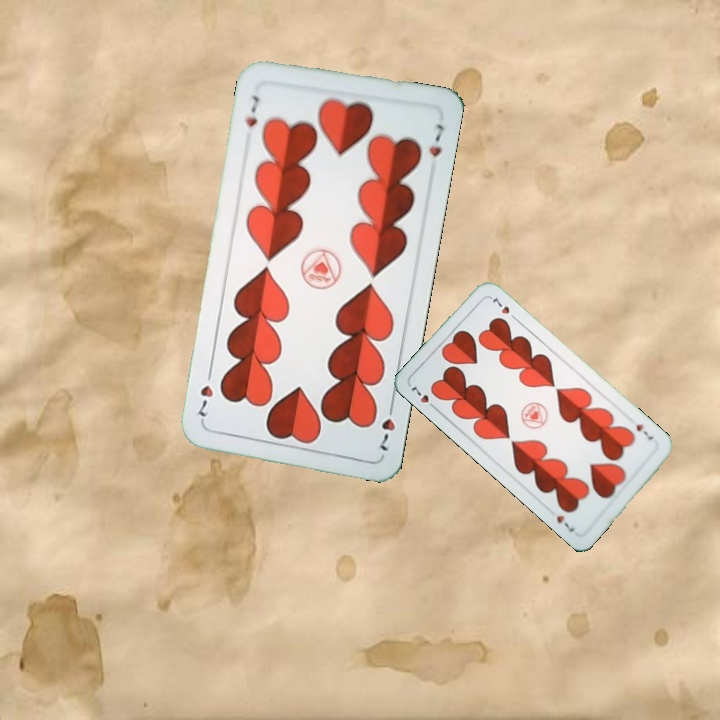H7: (375, 398, 398, 454), (407, 381, 439, 413), (241, 91, 262, 130), (632, 420, 656, 443)
